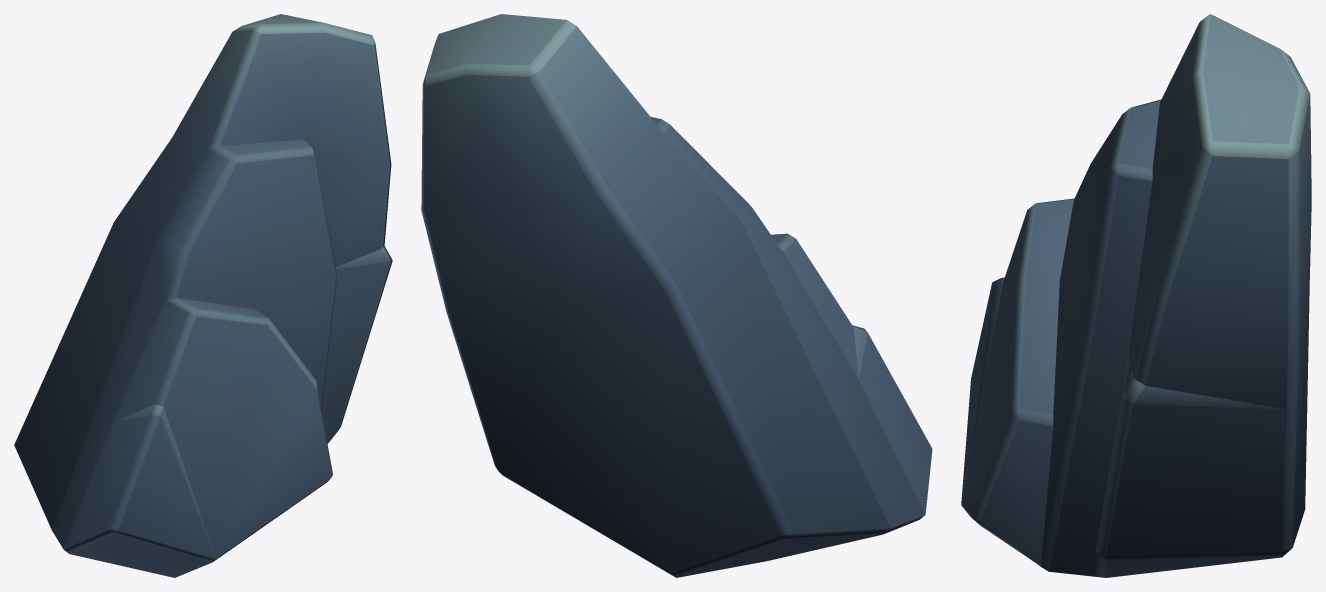
File: rock_028.fbx
3 renders of one model, left to right at view 1: azimuth 30°, elevation 25°; view 2: azimuth 150°, elevation 25°; view 3: azimuth 270°, elevation 25°, orthographic. The views are drawn at different scales.
Parts seen in each view (by area): view 1: rock_028; view 2: rock_028; view 3: rock_028.
Boxes of the visible parts, x1,y1,x2,y2 form: rock_028: (14, 14, 392, 577); rock_028: (421, 14, 932, 577); rock_028: (961, 14, 1311, 577).
Bounding box in the file's own units: 612 × 743 × 373.
Materials: 1 (1 with a texture image).
